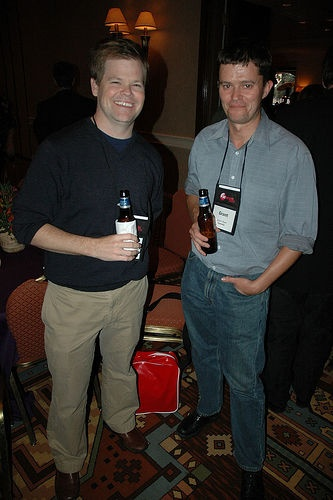head: (89, 39, 150, 126), (217, 47, 273, 125), (47, 63, 82, 101)
person: (8, 38, 172, 491), (179, 47, 321, 494), (35, 60, 93, 141)
